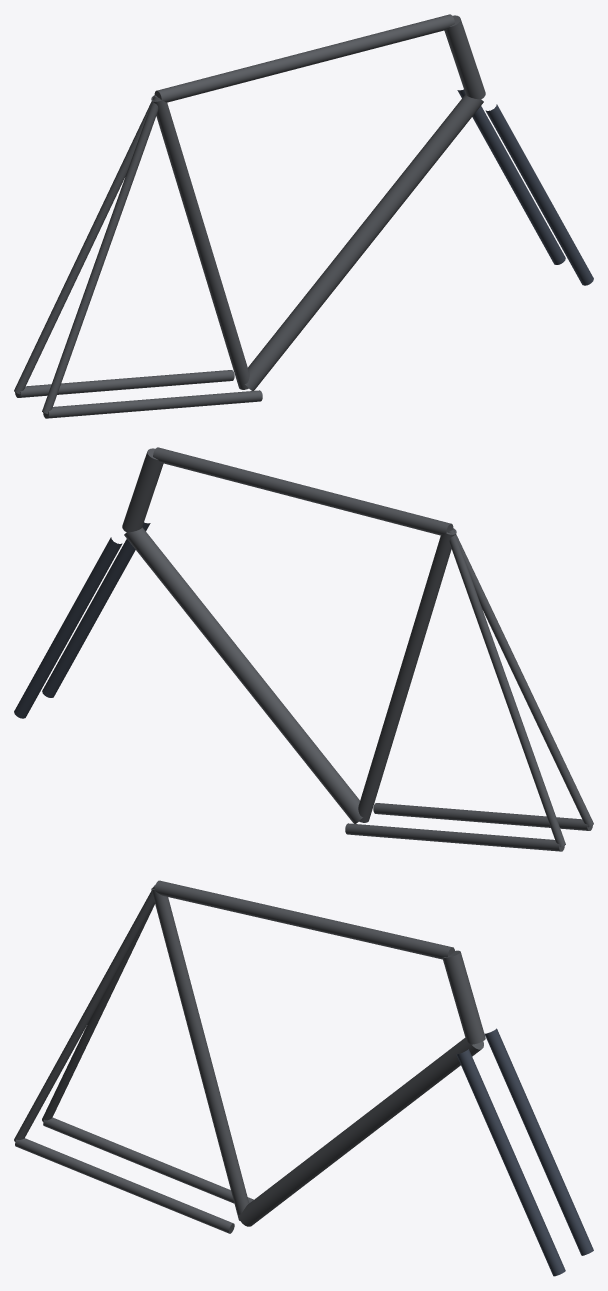
Rendered from wabi-prism-57.glb.
3 renders of one model, top to bottom at view 1: azimuth 30°, elevation 25°; view 2: azimuth 150°, elevation 25°; view 3: azimuth 330°, elevation 25°, orthographic.
Visible parts, largest first — view 1: paint_down, paint_top, paint_seat, paint_seatstay_0.045, fork_0.045, paint_seatstay_-0.045, paint_chainstay_0.045, fork_-0.045, paint_chainstay_-0.045, paint_head; view 2: paint_down, paint_top, paint_seat, paint_seatstay_-0.045, fork_-0.045, paint_seatstay_0.045, paint_chainstay_-0.045, fork_0.045, paint_chainstay_0.045, paint_head; view 3: paint_down, paint_seat, paint_top, fork_-0.045, fork_0.045, paint_chainstay_0.045, paint_seatstay_0.045, paint_chainstay_-0.045, paint_head, paint_seatstay_-0.045.
Boxes of the visible parts, x1,y1,x2,y2 form: paint_down: [245, 94, 483, 390]; paint_top: [154, 14, 454, 102]; paint_seat: [151, 95, 249, 389]; paint_seatstay_0.045: [42, 96, 159, 413]; fork_0.045: [485, 104, 593, 285]; paint_seatstay_-0.045: [14, 95, 157, 394]; paint_chainstay_0.045: [43, 390, 262, 418]; fork_-0.045: [457, 89, 565, 264]; paint_chainstay_-0.045: [15, 370, 234, 397]; paint_head: [444, 15, 485, 99]; paint_down: [124, 527, 362, 823]; paint_top: [153, 447, 453, 535]; paint_seat: [358, 528, 456, 822]; paint_seatstay_-0.045: [448, 529, 565, 846]; fork_-0.045: [14, 537, 122, 718]; paint_seatstay_0.045: [450, 528, 593, 827]; paint_chainstay_-0.045: [345, 823, 564, 851]; fork_0.045: [42, 522, 150, 697]; paint_chainstay_0.045: [373, 803, 592, 830]; paint_head: [122, 448, 163, 532]; paint_down: [238, 1038, 483, 1226]; paint_seat: [151, 887, 249, 1220]; paint_top: [154, 880, 454, 959]; fork_-0.045: [484, 1028, 593, 1255]; fork_0.045: [456, 1049, 565, 1276]; paint_chainstay_0.045: [15, 1138, 234, 1233]; paint_seatstay_0.045: [14, 885, 155, 1141]; paint_chainstay_-0.045: [43, 1117, 253, 1203]; paint_head: [442, 950, 485, 1044]; paint_seatstay_-0.045: [42, 884, 155, 1121].
Size of the model in its own units: 1.02 by 0.5776 by 0.112.
